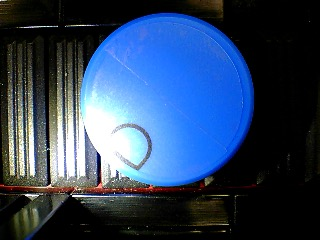MIPO1: (79, 13, 255, 187)
